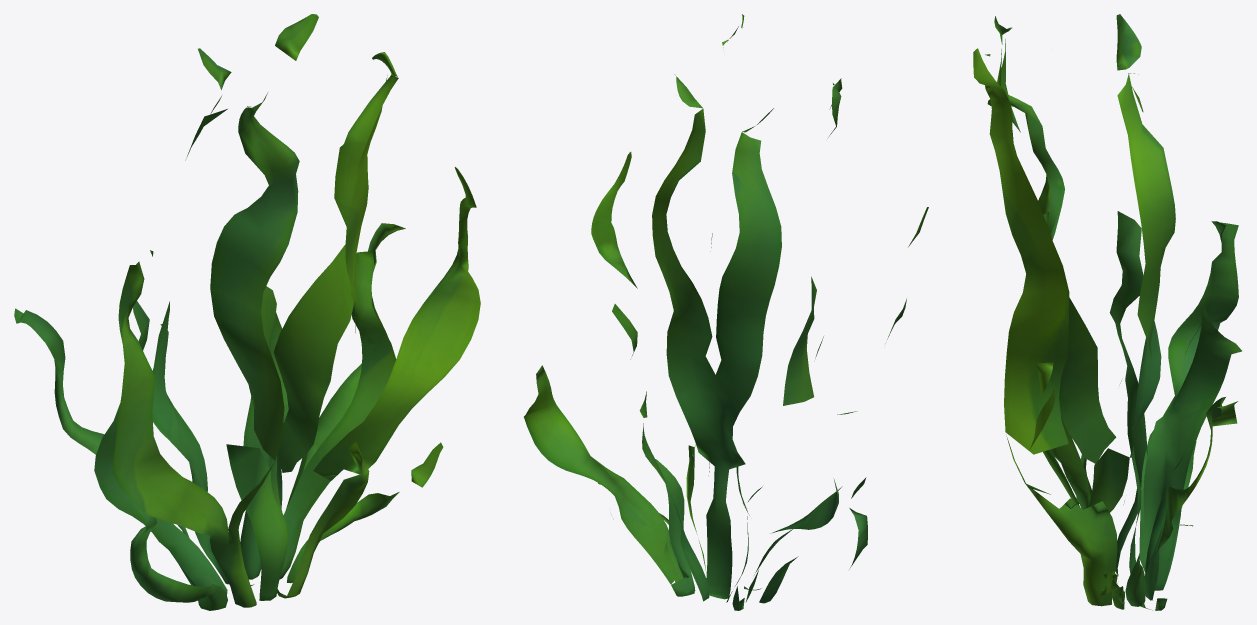
The model's file is seaweed_blades.glb.
The picture shows the model from 3 angles, left to right: view 1: azimuth 30°, elevation 25°; view 2: azimuth 150°, elevation 25°; view 3: azimuth 270°, elevation 25°; orthographic projection. The views are drawn at different scales.
Visible parts, largest first — view 1: d727da88_526e_484e_87b5_72ff3445129d; view 2: d727da88_526e_484e_87b5_72ff3445129d; view 3: d727da88_526e_484e_87b5_72ff3445129d.
Part boxes in pixels (x1,y1,x2,y2): d727da88_526e_484e_87b5_72ff3445129d: (14, 14, 480, 610); d727da88_526e_484e_87b5_72ff3445129d: (524, 14, 928, 610); d727da88_526e_484e_87b5_72ff3445129d: (973, 14, 1241, 610).
Size of the model in its own units: 0.9823 by 1.4 by 0.5954.
1 material, 1 textured.
